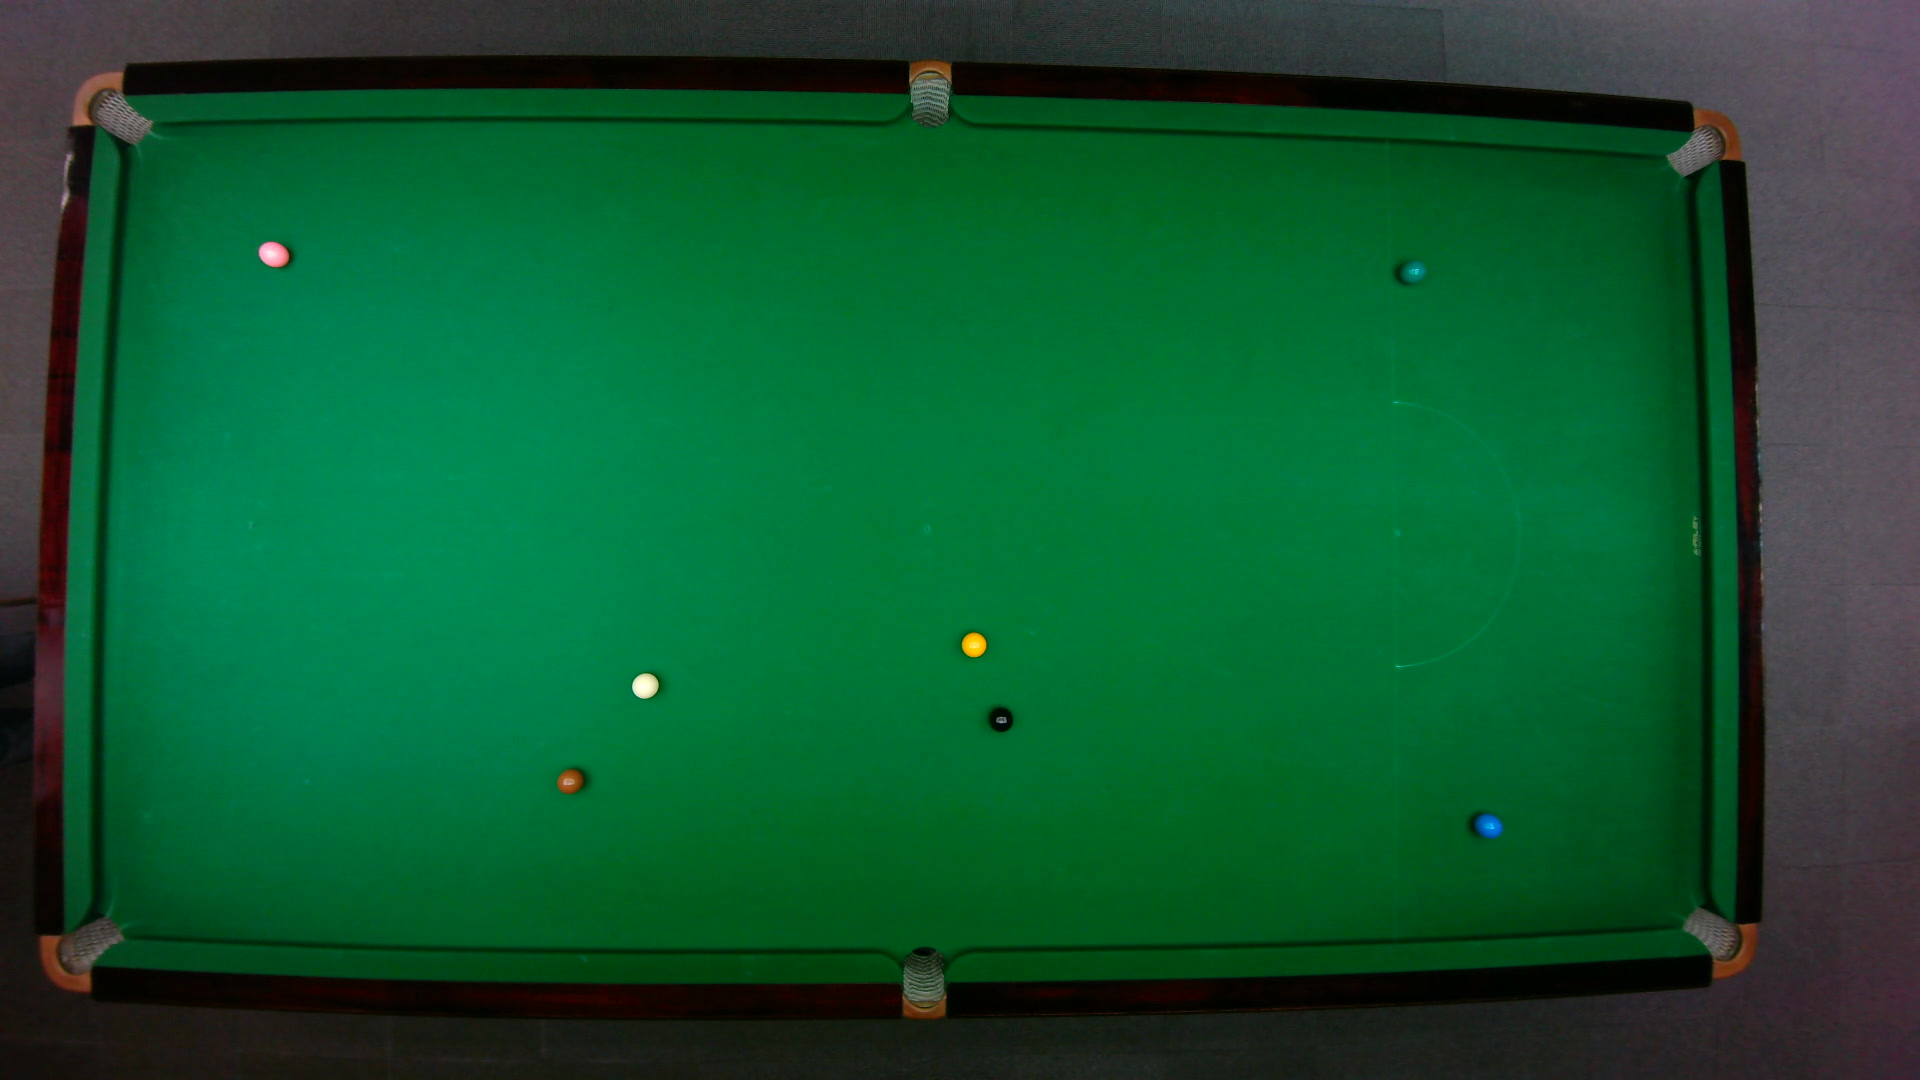bag: (37, 914, 127, 992), (70, 70, 156, 146), (1680, 905, 1760, 980), (1664, 107, 1741, 177), (902, 945, 945, 1021), (909, 59, 952, 129)
black: (986, 705, 1015, 735)
blue: (1472, 811, 1505, 840)
brown: (555, 767, 585, 795)
green: (1396, 258, 1427, 287)
pink: (256, 240, 291, 270)
white: (630, 671, 661, 702)
yellow: (959, 632, 989, 659)
zone: (1391, 400, 1520, 669)
